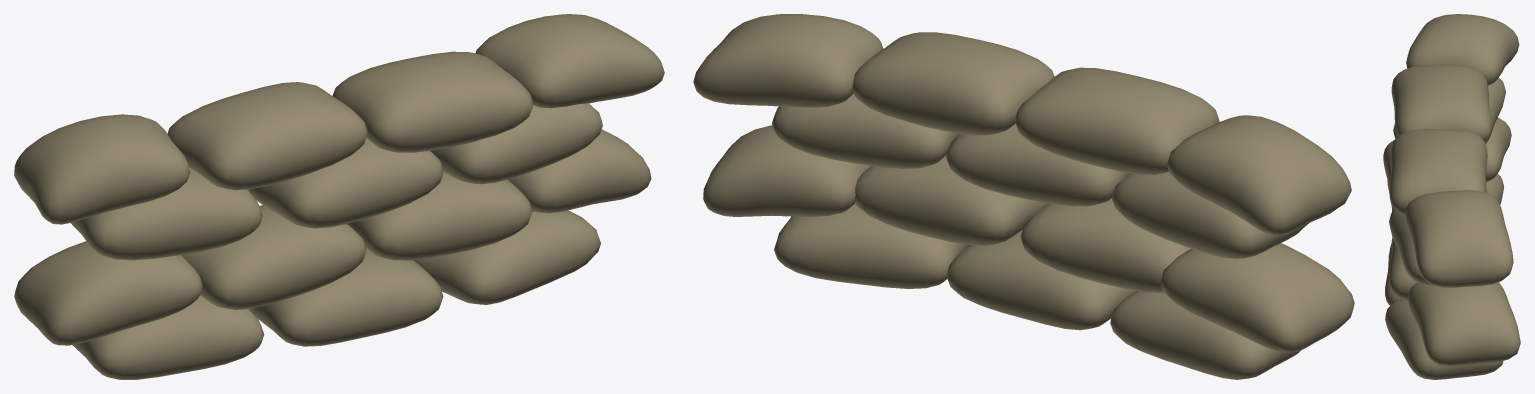
File: sack_trench.glb
3 renders of one model, left to right at view 1: azimuth 30°, elevation 25°; view 2: azimuth 150°, elevation 25°; view 3: azimuth 270°, elevation 25°, orthographic. The views are drawn at different scales.
Visible parts, largest first — view 1: SackTrench; view 2: SackTrench; view 3: SackTrench.
Part boxes in pixels (<box>): SackTrench: <box>14,14,664,379</box>; SackTrench: <box>693,14,1354,379</box>; SackTrench: <box>1383,14,1520,379</box>.
Size of the model in its own units: 3.2 by 1.21 by 0.7844.
